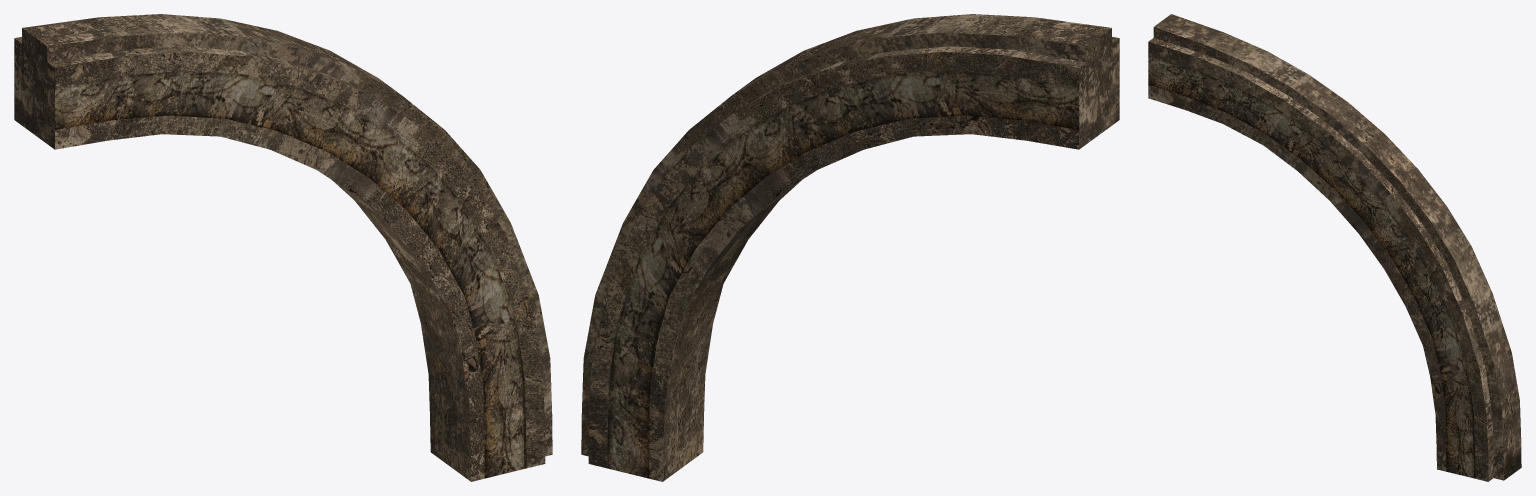
The model's file is materials_5_arch_23.fbx.
3 views of the same model, side by side, from view 1: azimuth 30°, elevation 25°; view 2: azimuth 150°, elevation 25°; view 3: azimuth 330°, elevation 25° (orthographic). The views are drawn at different scales.
Visible parts, largest first — view 1: materials_5_arch_23; view 2: materials_5_arch_23; view 3: materials_5_arch_23.
Boxes of the visible parts, <box> form: materials_5_arch_23: <box>14,14,552,481</box>; materials_5_arch_23: <box>581,14,1119,481</box>; materials_5_arch_23: <box>1148,14,1521,481</box>.
Size of the model in its own units: 88.15 by 88.58 by 12.25.
